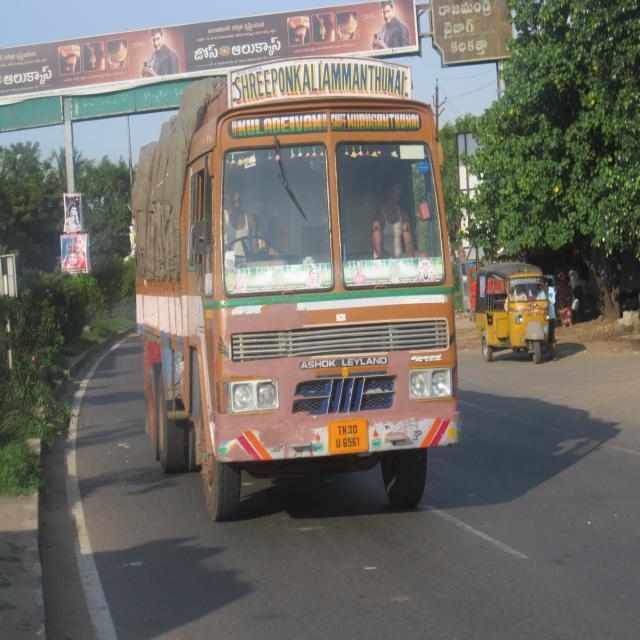auto_front: (477, 261, 566, 367)
tractor_front: (118, 51, 468, 530)
